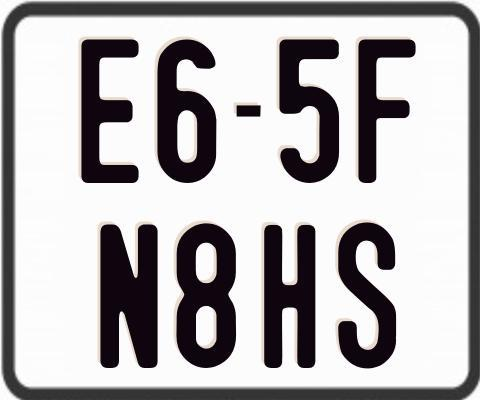5: (278, 37, 338, 187)
6: (155, 36, 220, 180)
8: (175, 220, 241, 367)
E: (78, 38, 142, 183)
F: (358, 37, 420, 184)
H: (262, 222, 319, 371)
N: (100, 223, 163, 368)
S: (337, 221, 400, 368)
